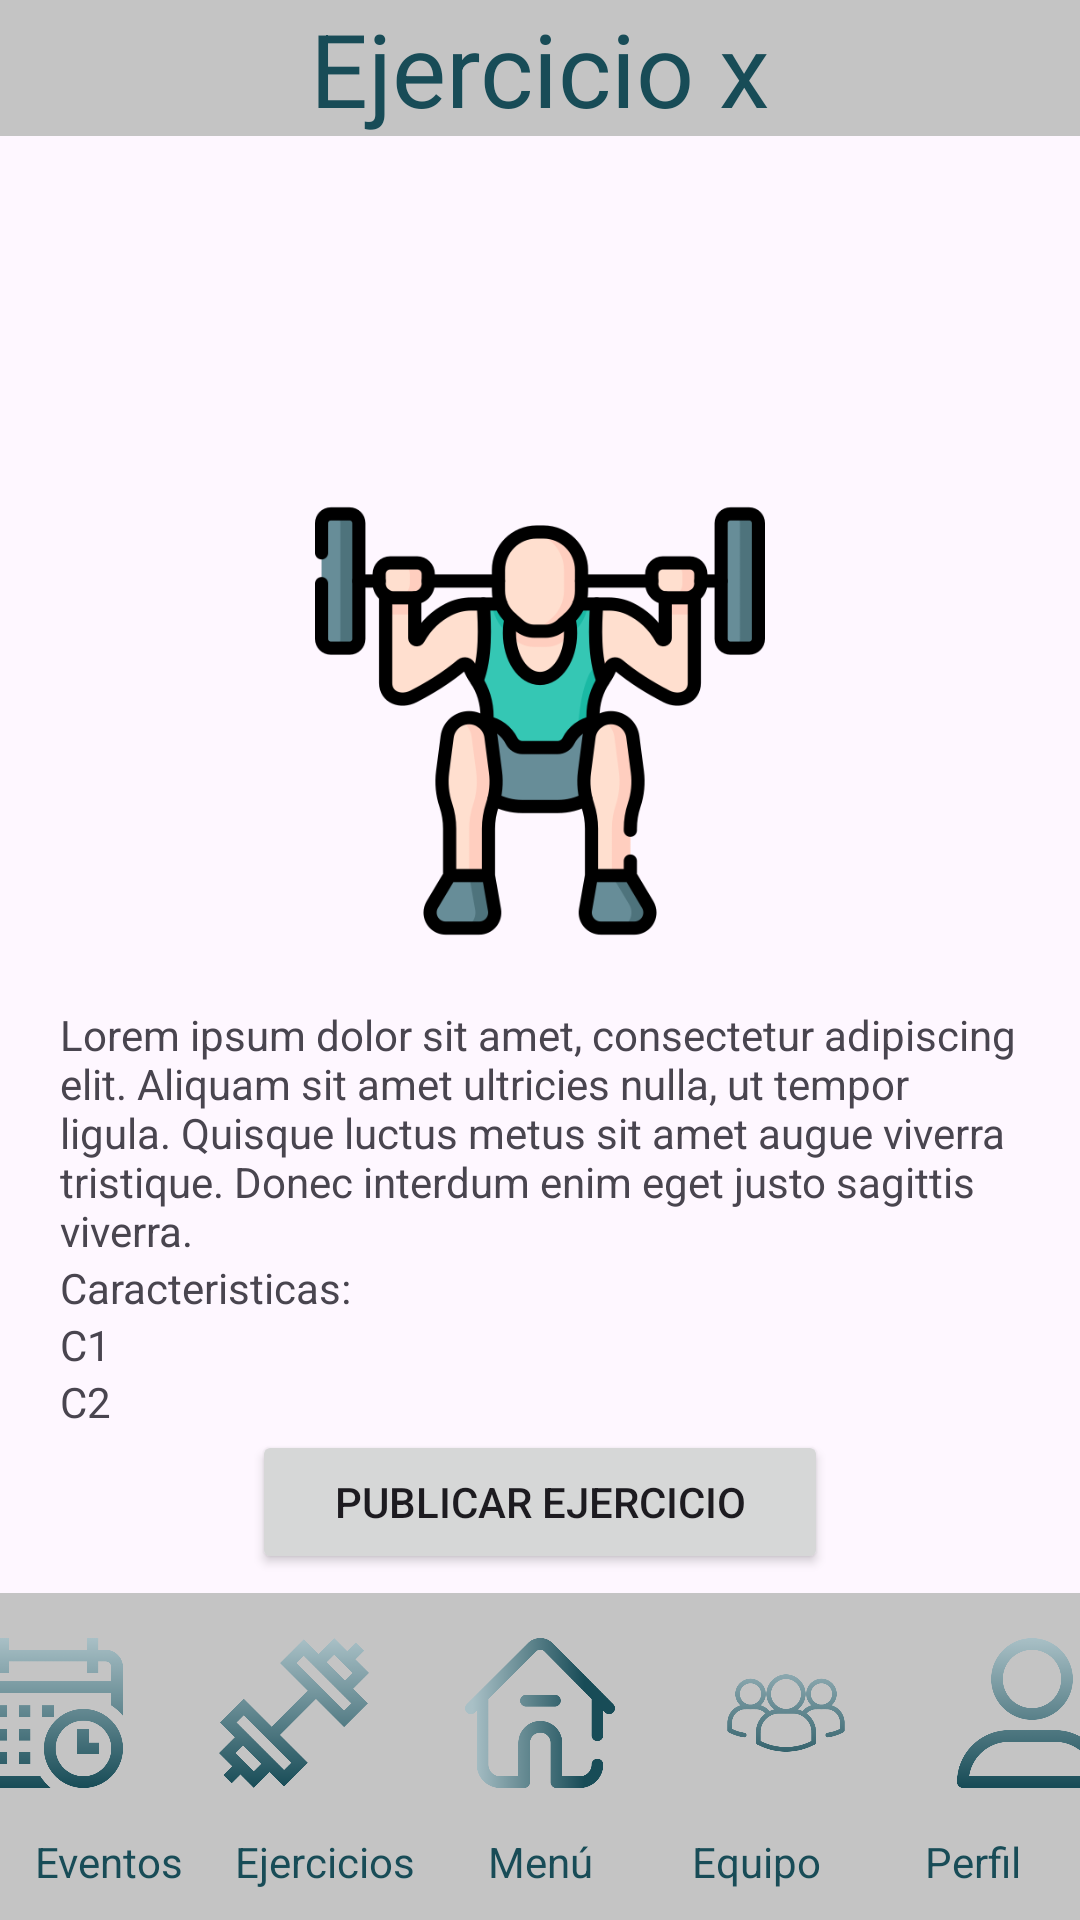

Icons on this 1080 × 1920 Android screen, each with its box as (x1, y1, x2, y2):
grupo: (727, 1674, 845, 1752)
pesa: (219, 1639, 369, 1788)
